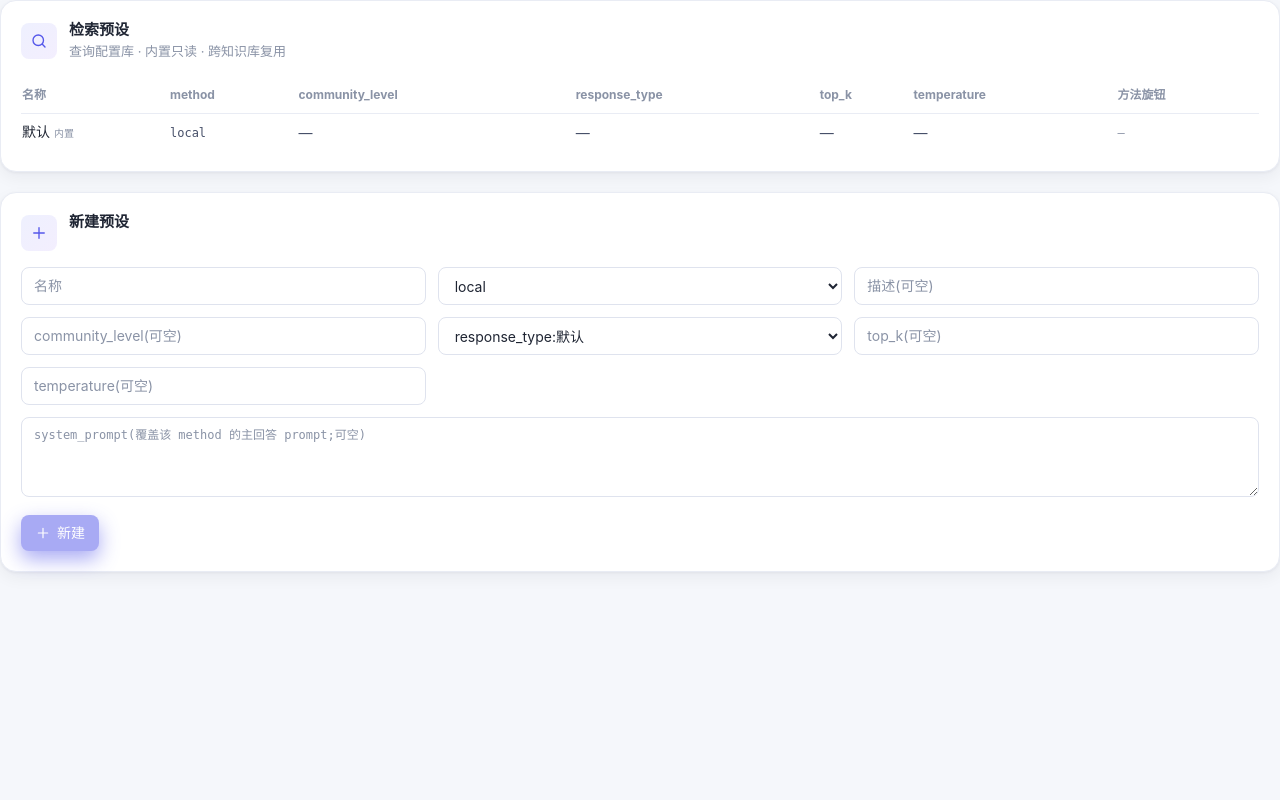
create failure surfaces an error message
This screenshot has width=1280, height=800.
Type "x" into the field with placeholder "名称" at (223, 286), box left=21, top=267, right=426, bottom=305
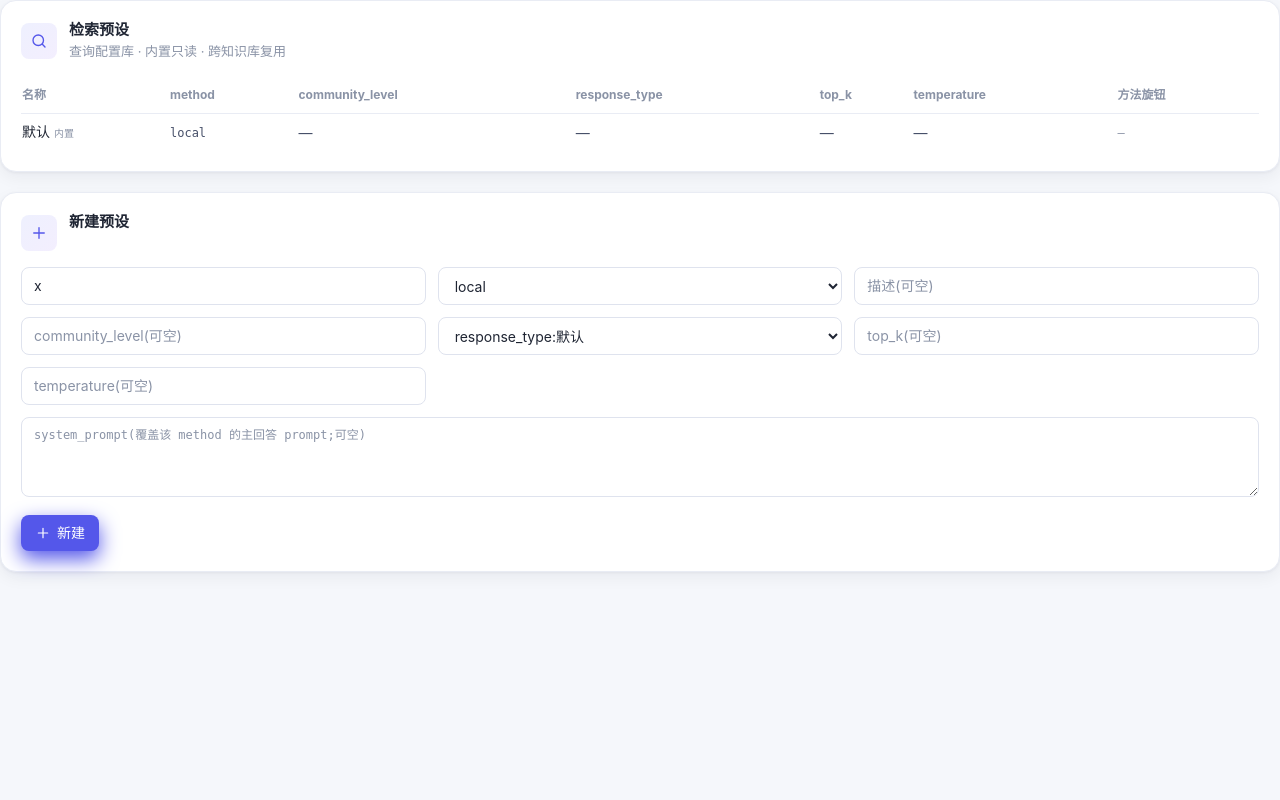
Click the button "新建" at (60, 533), box left=21, top=515, right=99, bottom=551
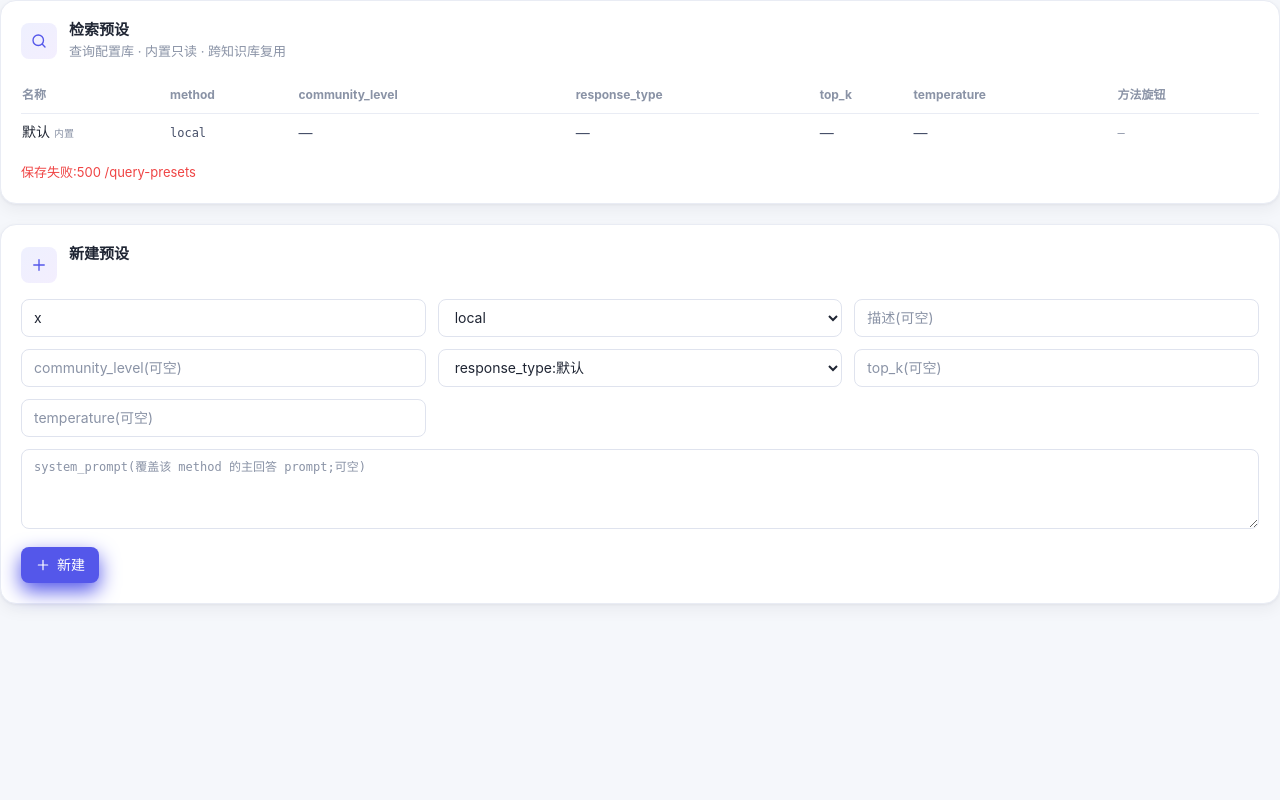
Check: the message shows "保存失败", box left=21, top=164, right=196, bottom=180
